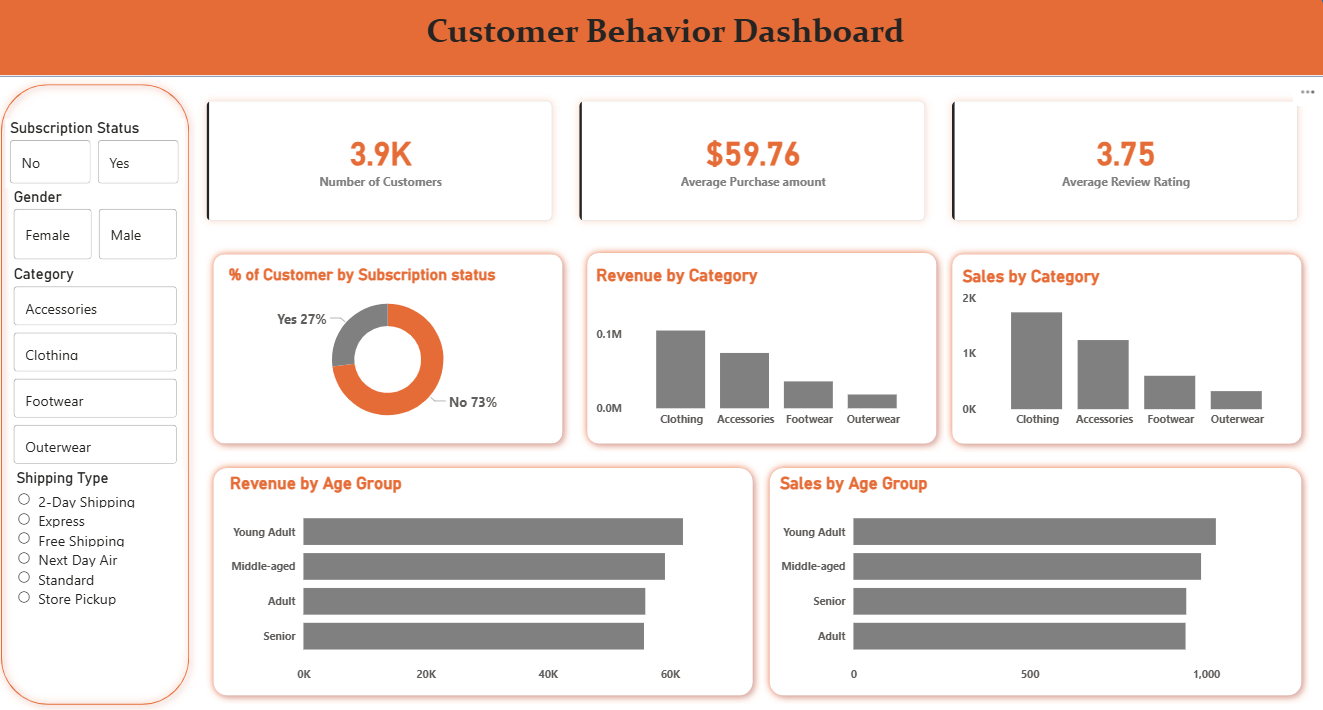

The dashboard page shown, as its layout file describes it:
{"tool":"powerbi","page":{"name":"Page 1","canvas":[1500,820],"ordinal":0},"visuals":[{"type":"cardVisual","fields":{"Data":["public customer.Number of Customers","public customer.Average Purchase amount","public customer.Average Review Rating"]},"box":[213.3,103.3,1286.7,191.7],"z":0},{"type":"shape","box":[0,0,1500,103.3],"z":1000},{"type":"textbox","box":[188.3,23.3,1146.7,58.3],"z":2000},{"type":"shape","box":[660,292.9,411.4,232.9],"z":3000},{"type":"clusteredColumnChart","title":"Revenue by Category","fields":{"Y":["Sum(public customer.purchase_amount)"],"Category":["public customer.category"]},"box":[675,315,380,191.7],"z":4000},{"type":"shape","box":[1071.7,295,411.7,231.7],"z":5000},{"type":"shape","box":[240,295,411.2,231.2],"z":6000},{"type":"donutChart","title":"% of Customer by Subscription status","fields":{"Y":["CountNonNull(public customer.customer_id)"],"Category":["public customer.subscription_status"]},"box":[261.2,315,368.8,192.5],"z":7000},{"type":"clusteredColumnChart","title":"Sales by Category","fields":{"Category":["public customer.category"],"Y":["CountNonNull(public customer.category)"]},"box":[1087.5,316.2,380,191.2],"z":8000},{"type":"shape","box":[0,102.9,230,717.1],"z":9000},{"type":"advancedSlicerVisual","fields":{"Values":["public customer.subscription_status"]},"box":[14.3,150,201.4,78.6],"z":10000},{"type":"advancedSlicerVisual","fields":{"Values":["public customer.gender"]},"box":[18.6,228.6,194.3,87.1],"z":11000},{"type":"advancedSlicerVisual","fields":{"Values":["public customer.category"]},"box":[18.6,315.7,194.3,230],"z":12000},{"type":"listSlicer","fields":{"Values":["public customer.shipping_type"]},"box":[21.4,545.7,194.3,205.7],"z":13000},{"type":"shape","box":[240,535.7,625.7,274.3],"z":14000},{"type":"clusteredBarChart","title":"Revenue by Age Group","fields":{"Y":["Sum(public customer.purchase_amount)"],"Category":["public customer.age_group"]},"box":[261.4,550,585.7,244.3],"z":15000},{"type":"shape","box":[865.7,535.7,617.1,274.3],"z":16000},{"type":"clusteredBarChart","title":"Sales by Age Group","fields":{"Category":["public customer.age_group"],"Y":["CountNonNull(public customer.customer_id)"]},"box":[881.4,550,585.7,244.3],"z":17000}]}

Visuals, with their boxes in screenshot pixels (x1, y1, x2, y2), scaled from the page's 1500x820 canvas onto the 1323x710 screenshot:
cardVisual - public customer.Number of Customers x public customer.Average Purchase amount: 188,89,1322,255
shape: 0,0,1322,89
textbox: 166,20,1177,71
shape: 582,254,945,455
"Revenue by Category" clusteredColumnChart: 595,273,931,439
shape: 945,255,1308,456
shape: 212,255,574,456
"% of Customer by Subscription status" donutChart: 230,273,556,439
"Sales by Category" clusteredColumnChart: 959,274,1294,439
shape: 0,89,203,709
advancedSlicerVisual - public customer.subscription_status: 13,130,190,198
advancedSlicerVisual - public customer.gender: 16,198,188,273
advancedSlicerVisual - public customer.category: 16,273,188,472
listSlicer - public customer.shipping_type: 19,472,190,651
shape: 212,464,764,701
"Revenue by Age Group" clusteredBarChart: 231,476,747,688
shape: 764,464,1308,701
"Sales by Age Group" clusteredBarChart: 777,476,1294,688
